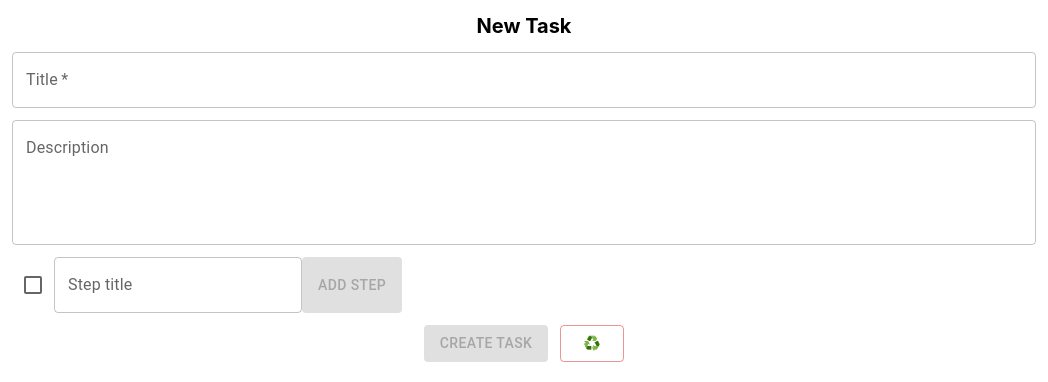
Test: NewTaskForm › should enable create button when title and description are provided
Type "Test Task" into the field labelled "Title *" at point(524, 80), box [12,52,1036,108]
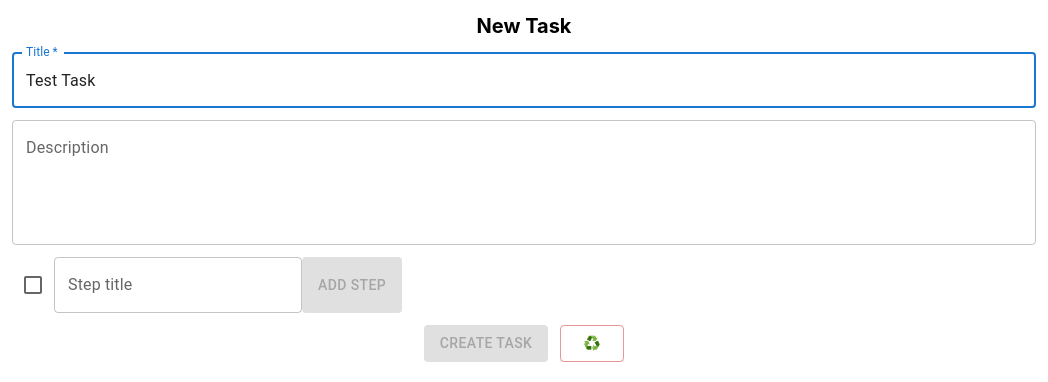
Type "Test Description" into the text box labelled "Description" at point(524, 182), box [26,136,1022,228]
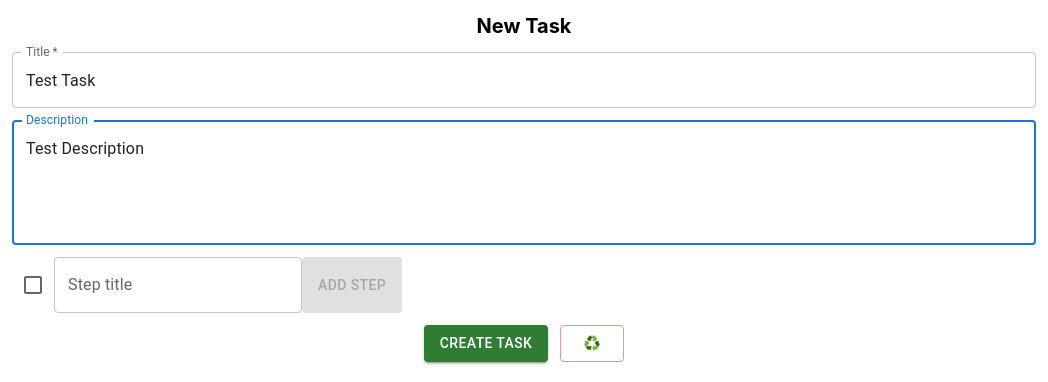
Expected: the button "Create Task" is enabled, [424,325,548,362]
